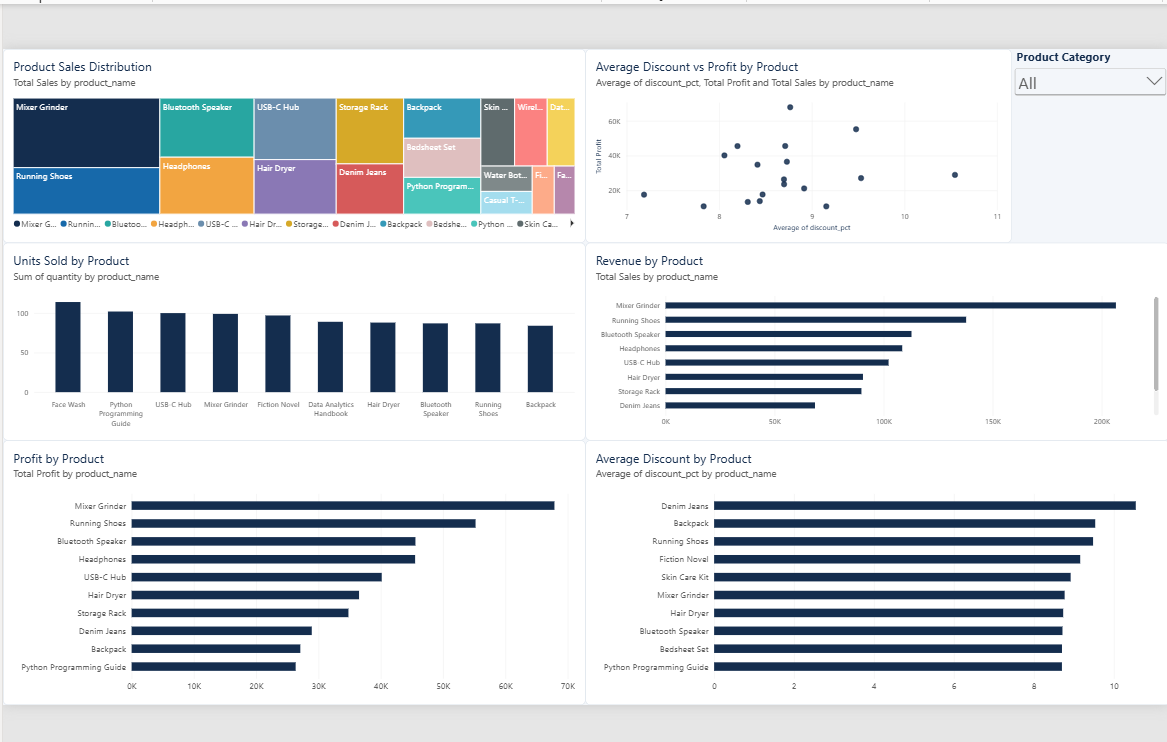

Layout of this report page (visuals, bound fields, positions):
{"tool":"powerbi","page":{"name":"Product Analysis","canvas":[1920,1080],"ordinal":2},"visuals":[{"type":"clusteredBarChart","title":"Revenue by Product","fields":{"Category":["Products.product_name"],"Y":["Orderitems.Total Sales"]},"box":[959.2,319,961.2,325.2],"z":0},{"type":"clusteredBarChart","title":"Profit by Product","fields":{"Category":["Products.product_name"],"Y":["Orderitems.Total Profit"]},"box":[0,644.3,959.2,436.4],"z":1000},{"type":"clusteredColumnChart","title":"Units Sold by Product","fields":{"Category":["Products.product_name"],"Y":["Sum(Orderitems.quantity)"]},"box":[0,319,959.2,325.2],"z":2000},{"type":"clusteredBarChart","title":"Average Discount by Product","fields":{"Category":["Products.product_name"],"Y":["Avg(Orderitems.discount_pct)"]},"box":[959.2,644.3,961.2,436.4],"z":3000},{"type":"slicer","fields":{"Values":["Products.category"]},"box":[1661.1,0,259.3,92.6],"z":4000},{"type":"treemap","title":"Product Sales Distribution","fields":{"Group":["Products.product_name"],"Values":["Orderitems.Total Sales"]},"box":[0,0,959.2,319],"z":4001},{"type":"scatterChart","title":"Average Discount vs Profit by Product","fields":{"Category":["Products.product_name"],"X":["Avg(Orderitems.discount_pct)"],"Y":["Orderitems.Total Profit"]},"box":[959.2,0,701.9,319],"z":4002}]}

Visuals, with their boxes on the page's 1920x1080 design canvas (x1, y1, x2, y2). These are canvas units, not pixel positions in the 1167x742 screenshot, which may show the page scaled, cropped or inside an application window:
"Revenue by Product" clusteredBarChart: select_region(959, 319, 1920, 644)
"Profit by Product" clusteredBarChart: select_region(0, 644, 959, 1081)
"Units Sold by Product" clusteredColumnChart: select_region(0, 319, 959, 644)
"Average Discount by Product" clusteredBarChart: select_region(959, 644, 1920, 1081)
slicer - Products.category: select_region(1661, 0, 1920, 93)
"Product Sales Distribution" treemap: select_region(0, 0, 959, 319)
"Average Discount vs Profit by Product" scatterChart: select_region(959, 0, 1661, 319)
